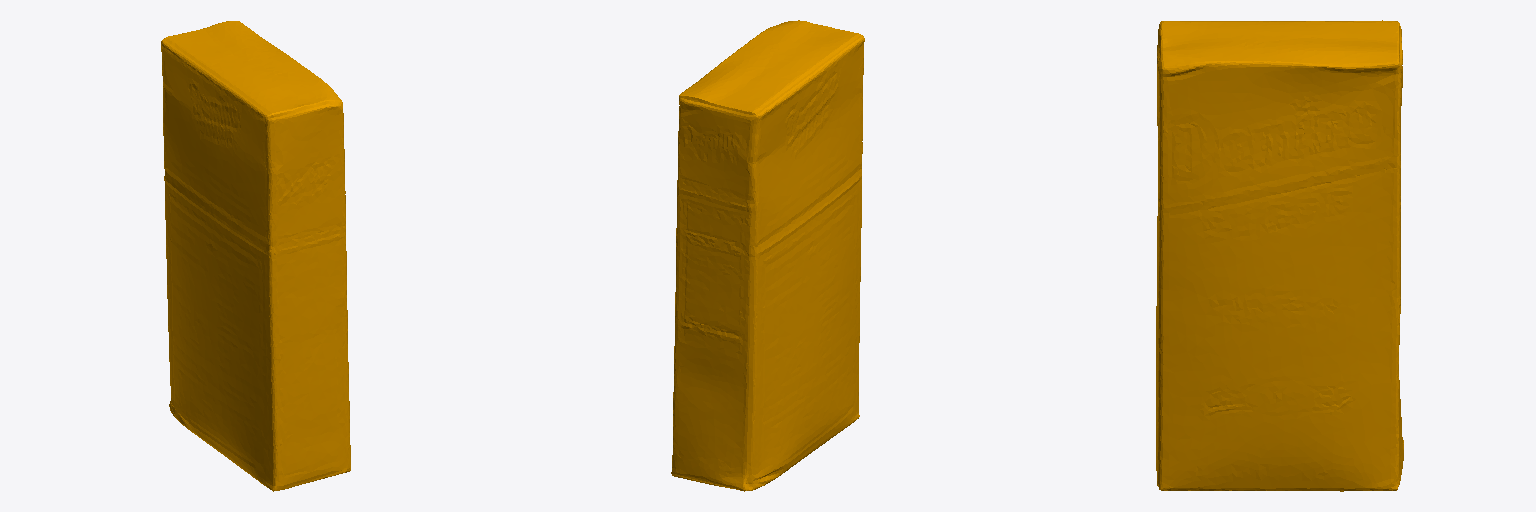
The robot description file, URDF, robot "root":
<robot name="root">
  <link name="link_original">
    <visual>
      <origin xyz="0 0 0" rpy="0 0 0"/>
      <geometry>
        <mesh filename="textured.obj" scale="1.0000E+00 1.0000E+00 1.0000E+00"/>
      </geometry>
    </visual>
    <inertial>
      <origin xyz="0 0 0" rpy="0 0 0"/>
      <mass value="6.3793E-01"/>
      <inertia ixx="2.01E-03" ixy="1.01E-06" ixz="2.67E-05" iyy="1.69E-03" iyz="-5.73E-06" izz="5.04E-04"/>
    </inertial>
    <collision>
      <origin xyz="0 0 0" rpy="0 0 0"/>
      <geometry>
        <mesh filename="coacd_allinone.obj" scale="1.0000E+00 1.0000E+00 1.0000E+00"/>
      </geometry>
    </collision>
  </link>
</robot>

--- Render facts (derived) ---
Views: 3 orthographic renders of the robot side by side, from view 1: azimuth 30°, elevation 25°; view 2: azimuth 150°, elevation 25°; view 3: azimuth 270°, elevation 25°.
Model root with 1 links and 0 joints (none), rooted at link_original, posed all joints at 0.
Visible links, largest first — view 1: link_original; view 2: link_original; view 3: link_original.
Boxes of the visible links, x1,y1,x2,y2 form: link_original: (161,21,350,491); link_original: (671,20,864,491); link_original: (1156,20,1403,491).
Size in the robot's own frame: 0.0451 by 0.0921 by 0.176 metres.
Meshes: 1 distinct files referenced, 1 mesh visuals loaded (1 OBJ).
